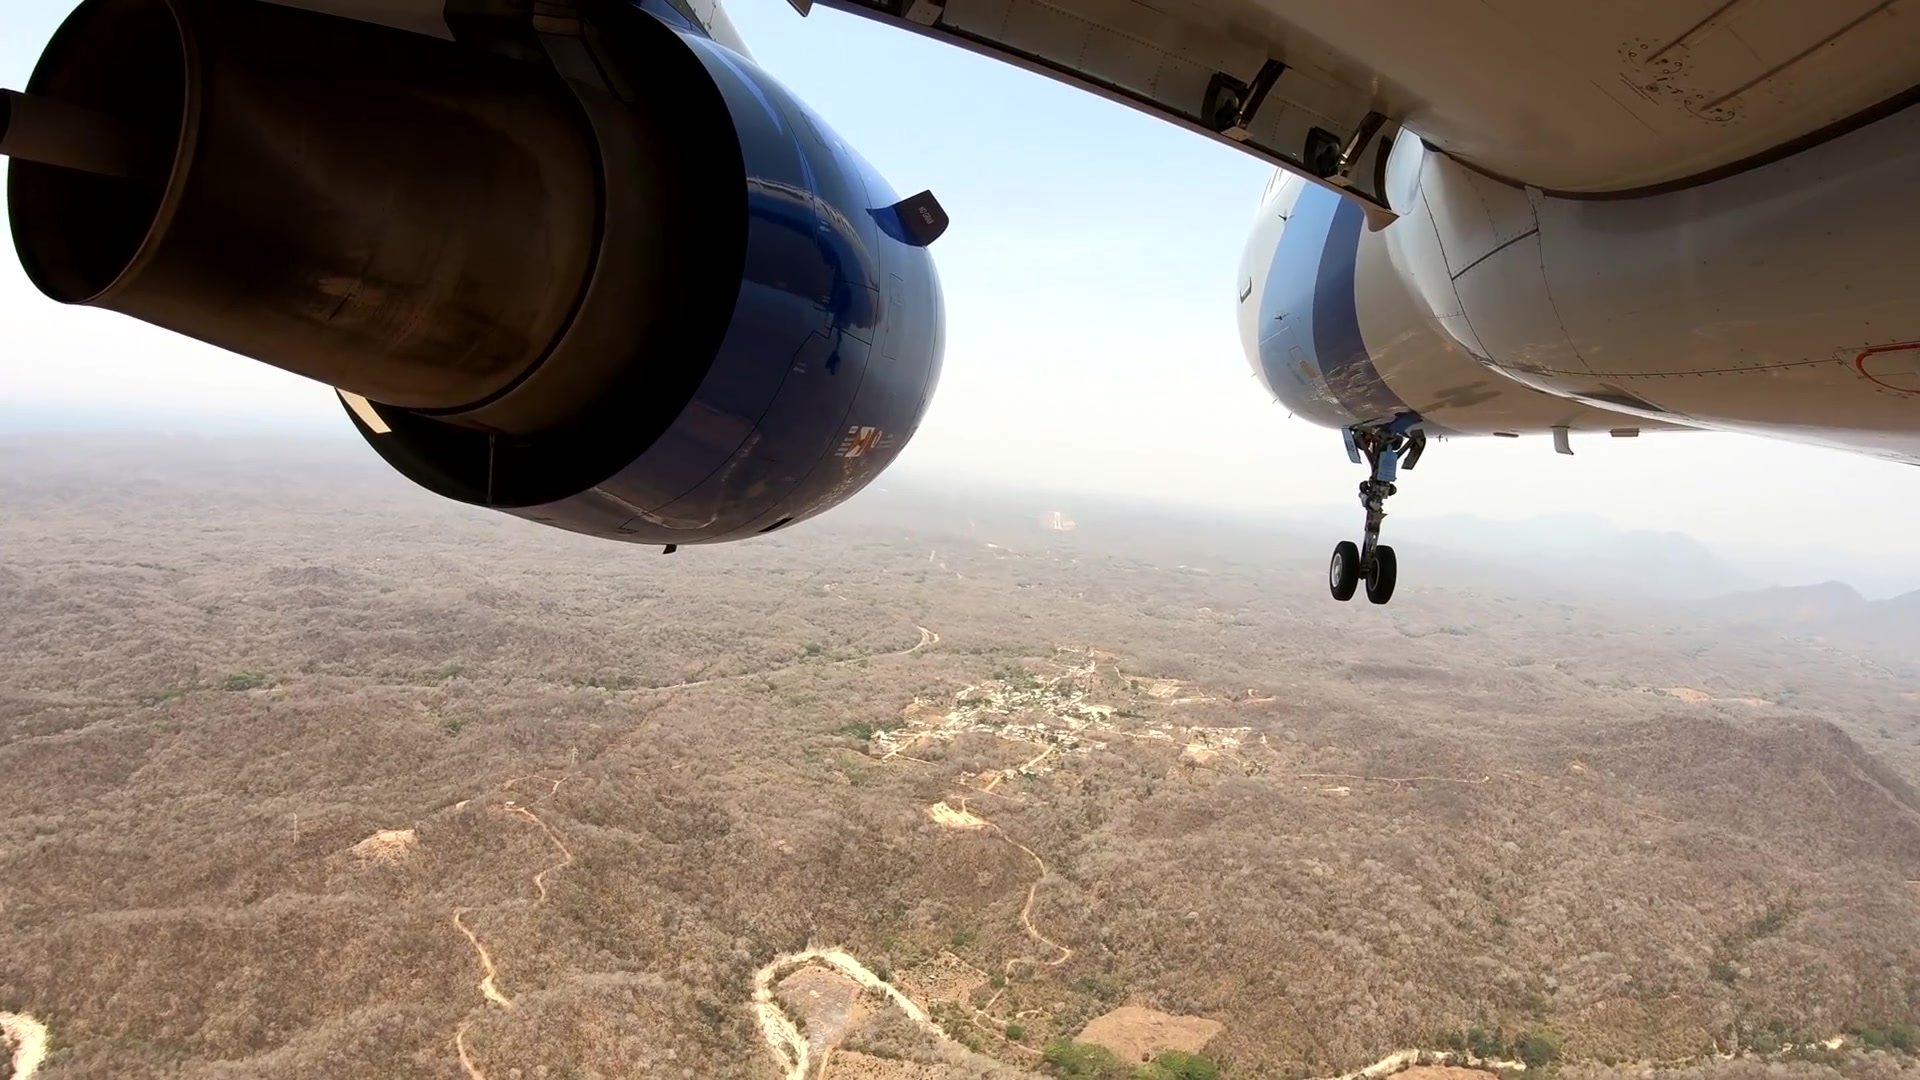runway: (1048, 508, 1067, 534)
